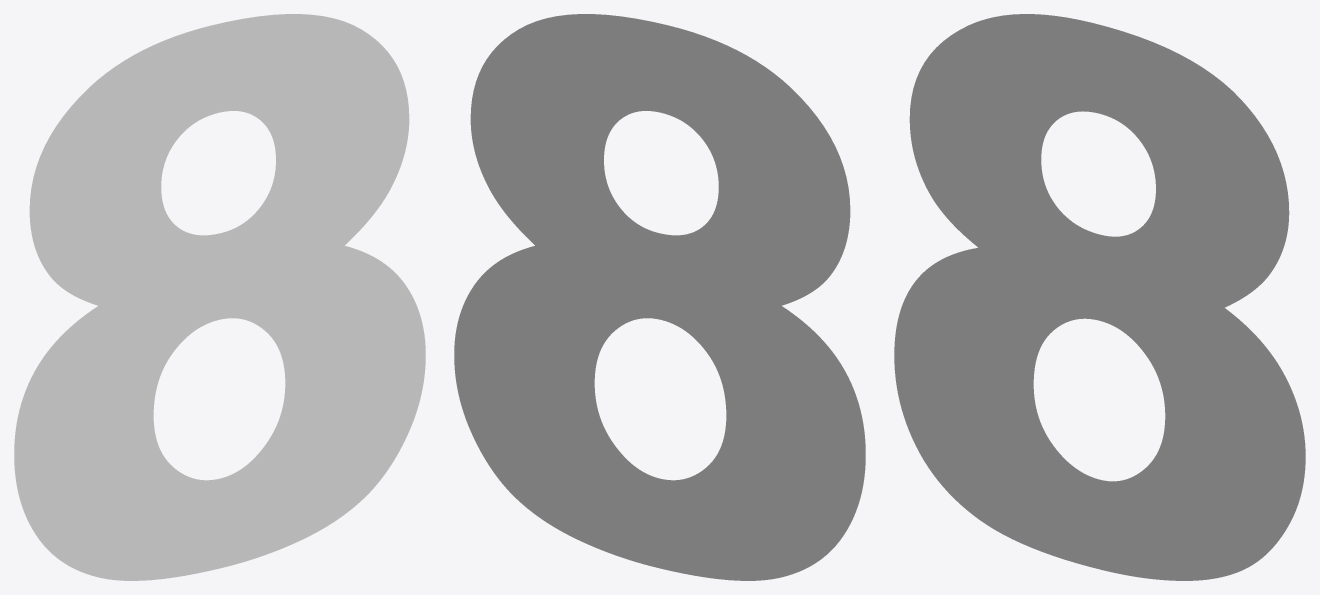
3 views of the same model, side by side, from view 1: azimuth 30°, elevation 25°; view 2: azimuth 150°, elevation 25°; view 3: azimuth 330°, elevation 25° (orthographic).
Visible parts, largest first — view 1: テキスト.005; view 2: テキスト.005; view 3: テキスト.005.
Boxes of the visible parts, bbox=[...] form: テキスト.005: bbox=[14, 14, 425, 580]; テキスト.005: bbox=[454, 14, 865, 580]; テキスト.005: bbox=[894, 14, 1305, 580].
Size of the model in its own units: 1.26 by 1.6 by 0.
1 material, 1 textured.
